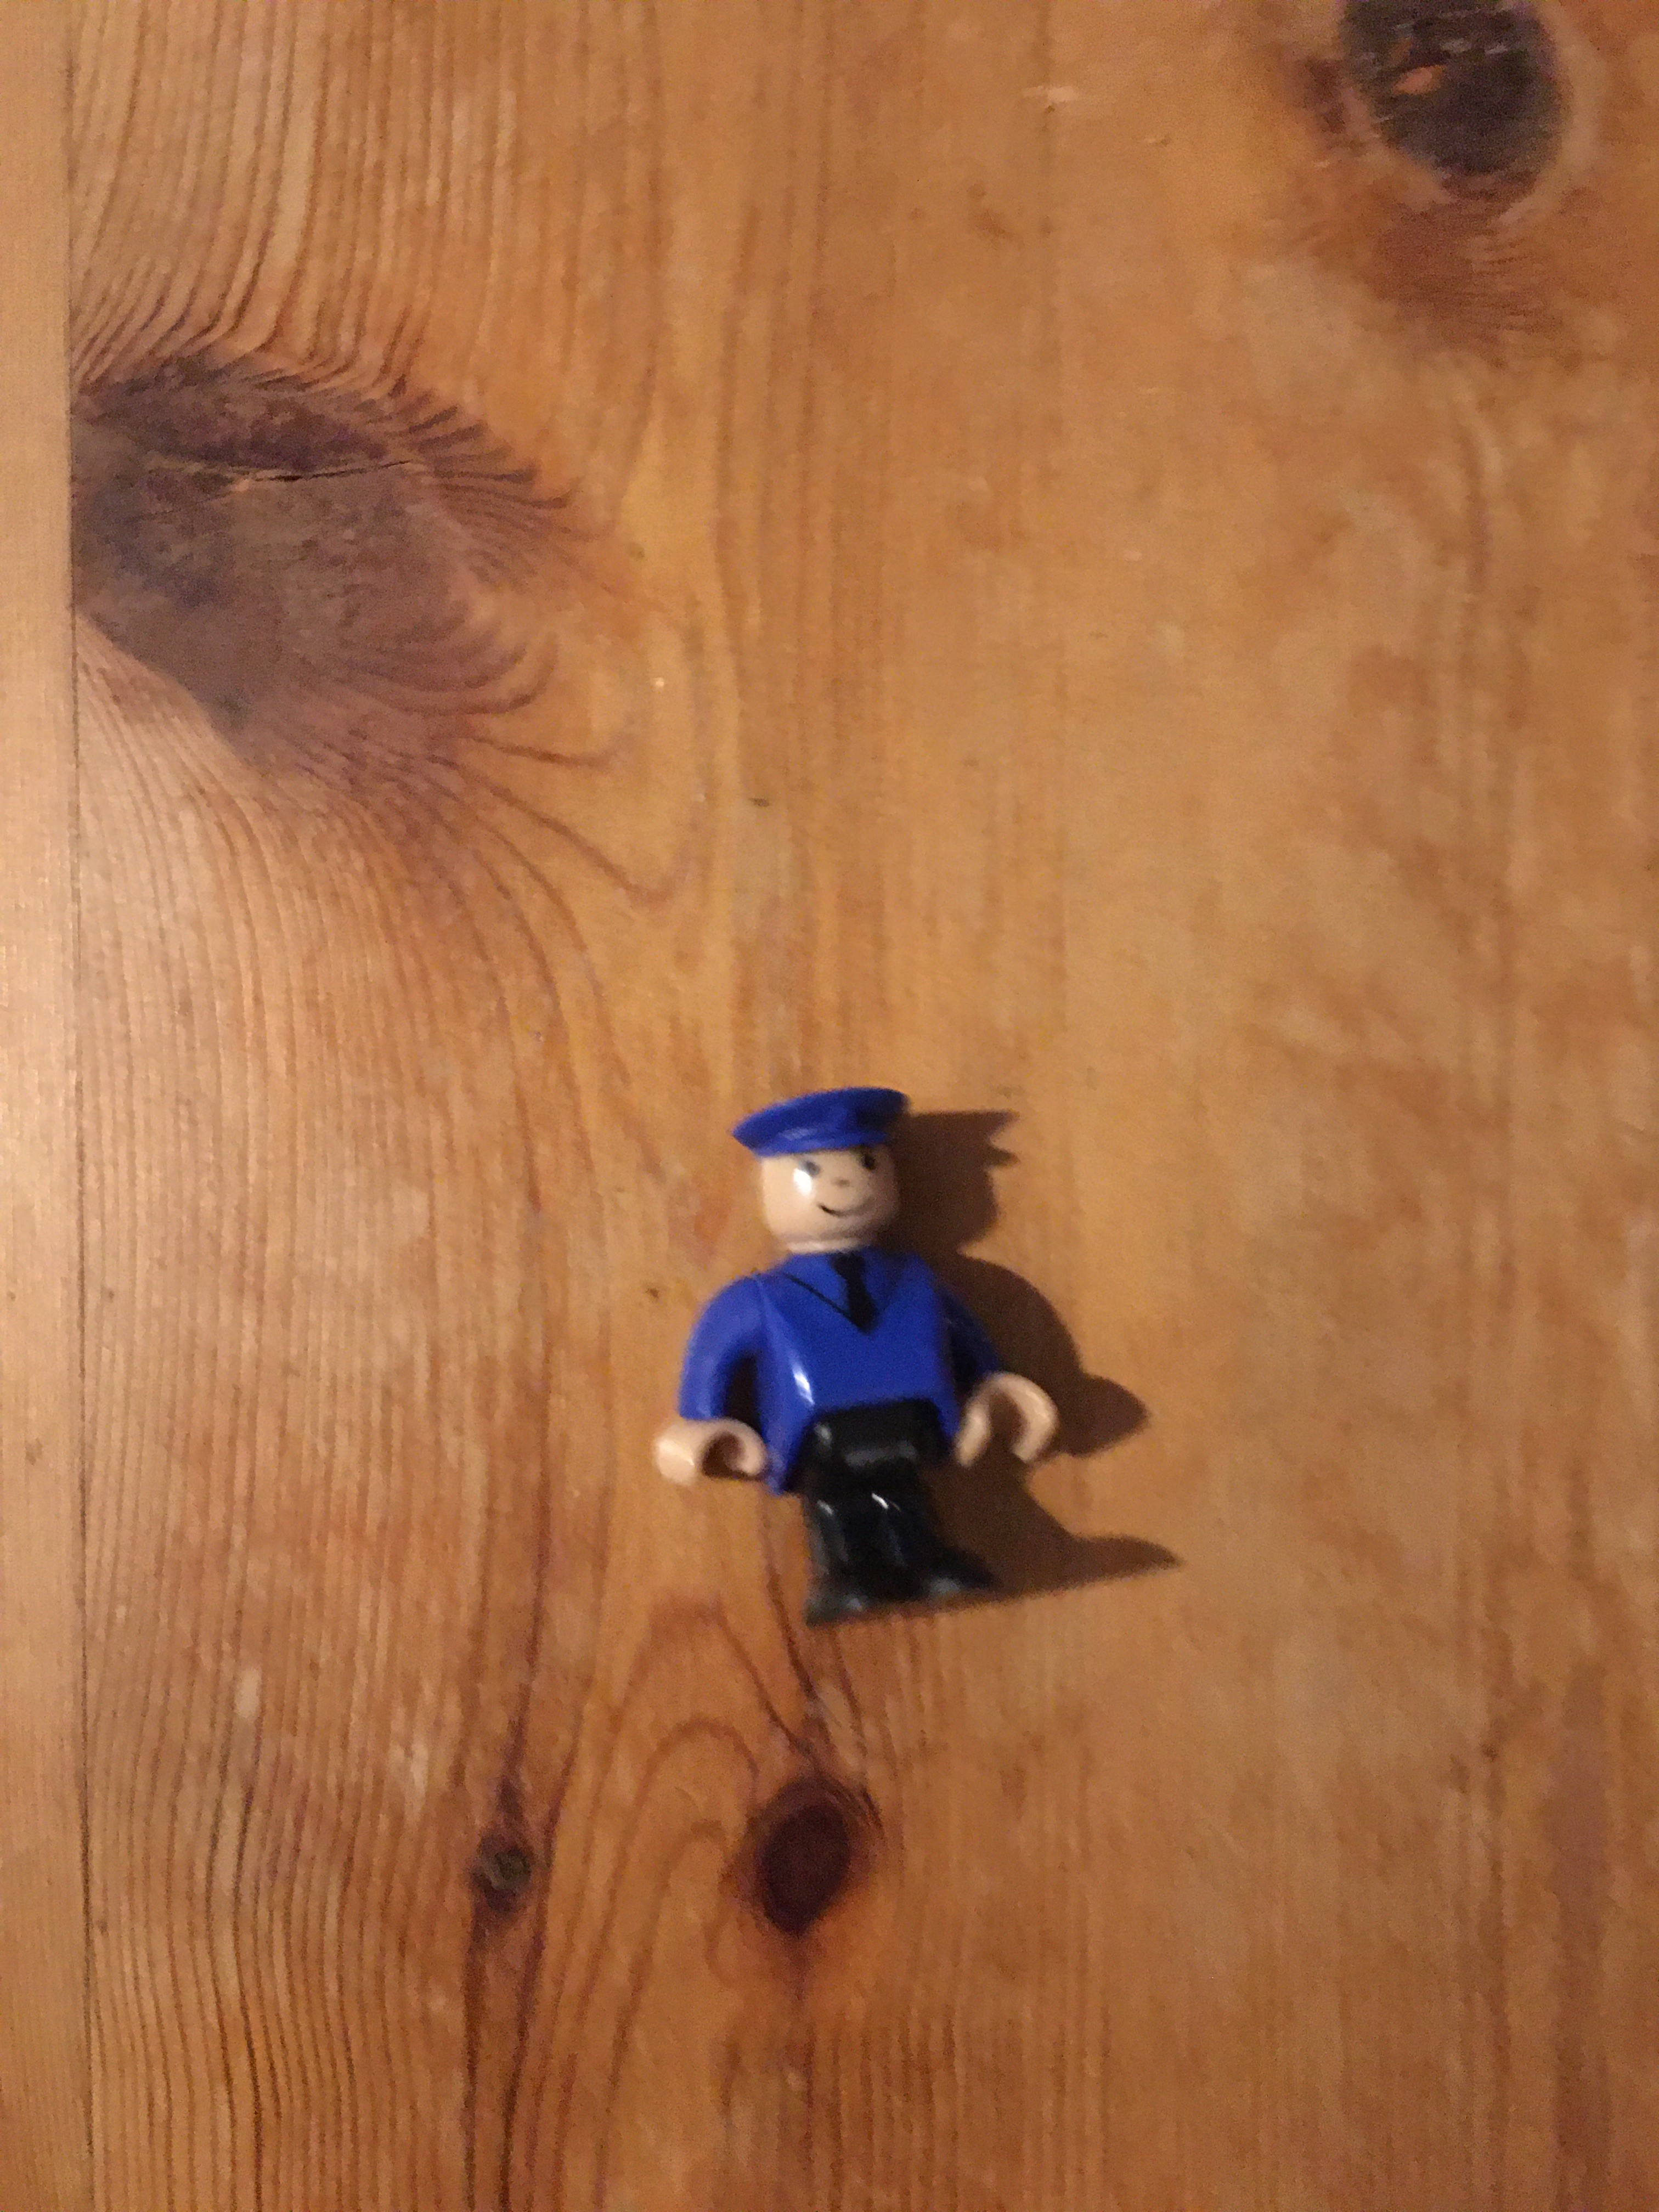person: (637, 1081, 1059, 1632)
